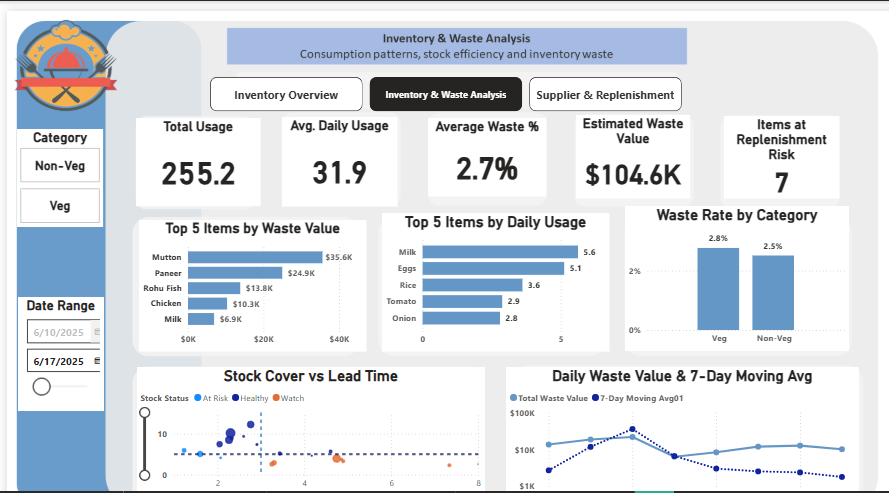

This screenshot's page, from the dashboard's own definition file:
{"tool":"powerbi","page":{"name":"Inventory & Waste Analysis","canvas":[1280,720],"ordinal":1},"visuals":[{"type":"card","title":"Total Usage","fields":{"Values":["_Measure.Total Daily Usage"]},"box":[184.8,152.9,178.1,126],"z":0},{"type":"card","title":"Avg. Daily Usage","fields":{"Values":["_Measure.Average Daily Usage"]},"box":[393.1,151.2,164.6,127.7],"z":1000},{"type":"card","title":"Average Waste %","fields":{"Values":["_Measure.Average Waste %"]},"box":[601,152.8,169,111.7],"z":2000},{"type":"card","title":"Items at Replenishment Risk","fields":{"Values":["_Measure.Items With Stock Coverage Risk"]},"box":[1024.2,149.9,164.6,117.6],"z":3000},{"type":"clusteredColumnChart","title":"Waste Rate by Category","fields":{"Y":["_Measure.Average Waste %"],"Category":["Fact_Inventory.Category"]},"box":[883.1,279.2,320.3,207.2],"z":4000},{"type":"clusteredBarChart","title":"Top 5 Items by Daily Usage","fields":{"Category":["Fact_Inventory.Item_Name"],"Y":["_Measure.Average Daily Usage"]},"box":[536.3,288,324.7,198.4],"z":5000},{"type":"scatterChart","title":"Stock Cover vs Lead Time","fields":{"Y":["_Measure.Average Days of Stock Cover"],"Size":["_Measure.Current Inventory Value"],"Category":["Fact_Inventory.Item_Name"],"X":["_Measure.Average Daily Usage"],"Series":["Fact_Inventory.Stock Status"]},"box":[185.1,508.4,496.7,199.8],"z":6000},{"type":"card","title":"Estimated Waste Value","fields":{"Values":["_Measure.Waste Value"]},"box":[812.6,148.4,163.1,119],"z":7000},{"type":"pageNavigator","box":[289.5,94,675.9,50],"z":8000},{"type":"clusteredBarChart","title":"Top 5 Items by Waste Value","fields":{"Category":["Fact_Inventory.Item_Name"],"Y":["_Measure.Total Waste Value"]},"box":[188.3,298.3,325,188.3],"z":9000},{"type":"slicer","title":"Date Range","fields":{"Values":["Dim_Date.Date"]},"box":[16.2,408.5,122,161.6],"z":10000},{"type":"lineChart","title":"Daily Waste Value &  7-Day Moving Avg","fields":{"Y":["_Measure.Total Waste Value"],"Category":["Dim_Date.Date"],"Y2":["_Measure.7-Day Moving Avg01"]},"box":[712.2,509,503.9,199.9],"z":11000},{"type":"advancedSlicerVisual","title":"Category","fields":{"Values":["Fact_Inventory.Category"]},"box":[14.7,169,123.4,139.6],"z":12000}]}

Visuals, with their boxes in screenshot pixels (x1, y1, x2, y2), scaled from the page's 1280x720 canvas onto the 889x493 screenshot:
"Total Usage" card: (128, 105, 252, 191)
"Avg. Daily Usage" card: (273, 104, 387, 191)
"Average Waste %" card: (417, 105, 535, 181)
"Items at Replenishment Risk" card: (711, 103, 826, 183)
"Waste Rate by Category" clusteredColumnChart: (613, 191, 836, 333)
"Top 5 Items by Daily Usage" clusteredBarChart: (372, 197, 598, 333)
"Stock Cover vs Lead Time" scatterChart: (129, 348, 474, 485)
"Estimated Waste Value" card: (564, 102, 678, 183)
pageNavigator: (201, 64, 671, 99)
"Top 5 Items by Waste Value" clusteredBarChart: (131, 204, 357, 333)
"Date Range" slicer: (11, 280, 96, 390)
"Daily Waste Value &  7-Day Moving Avg" lineChart: (495, 349, 845, 485)
"Category" advancedSlicerVisual: (10, 116, 96, 211)
